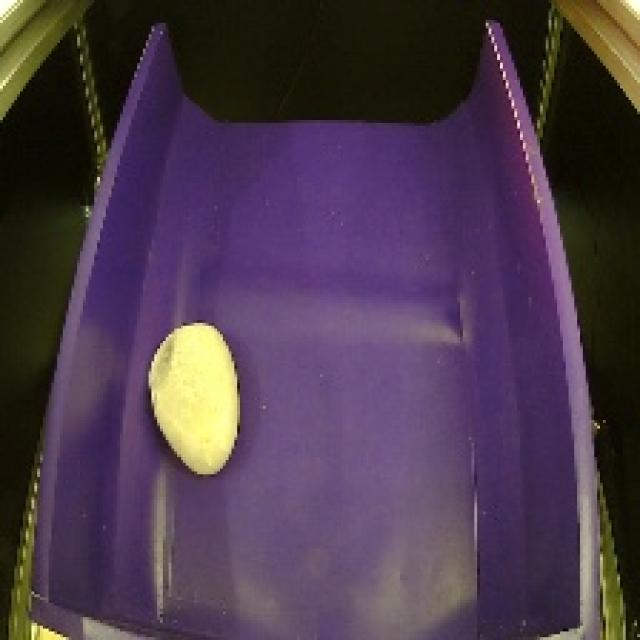cobbles: (143, 316, 251, 483)
